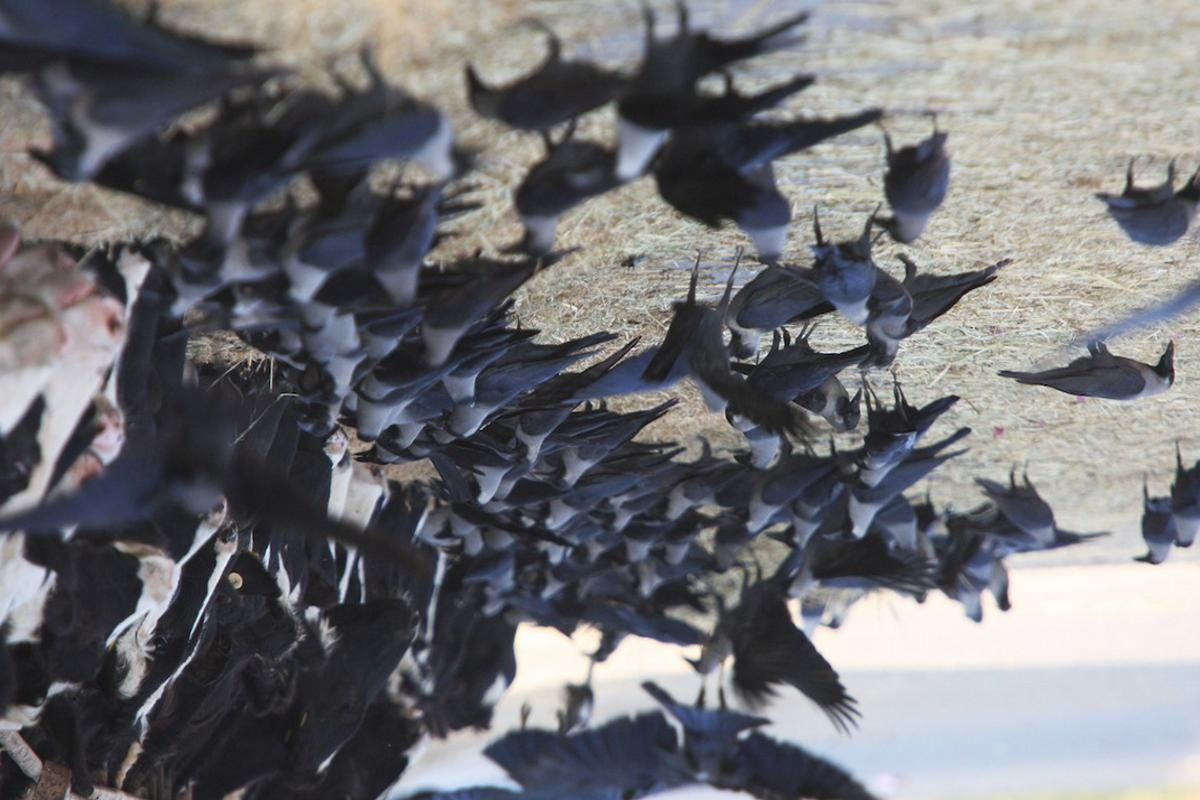crow: (1003, 326, 1188, 405), (873, 135, 963, 257), (727, 265, 825, 362), (739, 453, 829, 539), (982, 479, 1076, 550), (865, 261, 912, 385), (827, 485, 908, 550), (769, 492, 832, 550), (1128, 499, 1173, 575), (805, 381, 864, 438), (1170, 449, 1200, 555)
